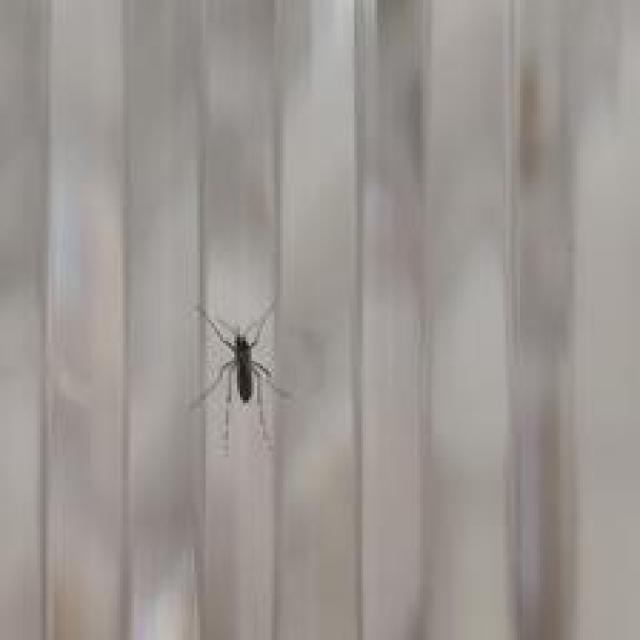Aedes albopictus: (186, 297, 291, 457)
